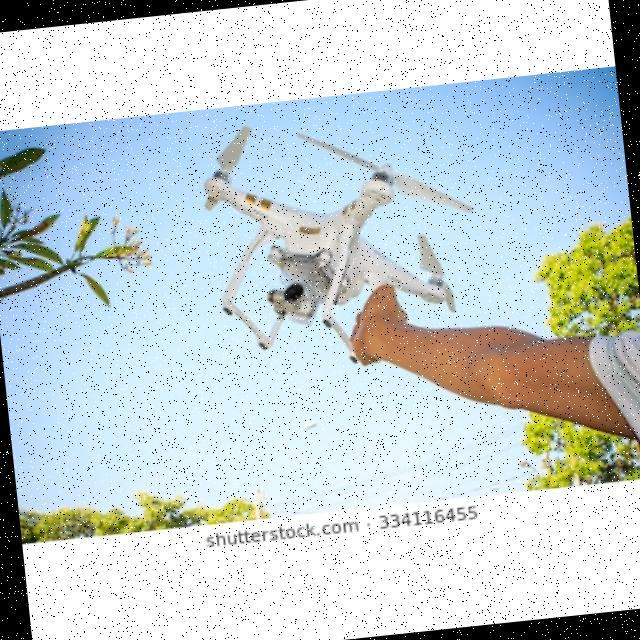Drones: (188, 106, 470, 362)
